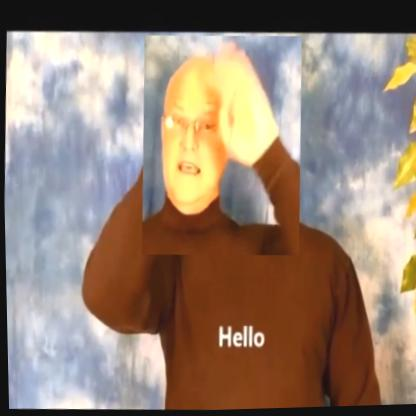Hello: (137, 33, 306, 261)
